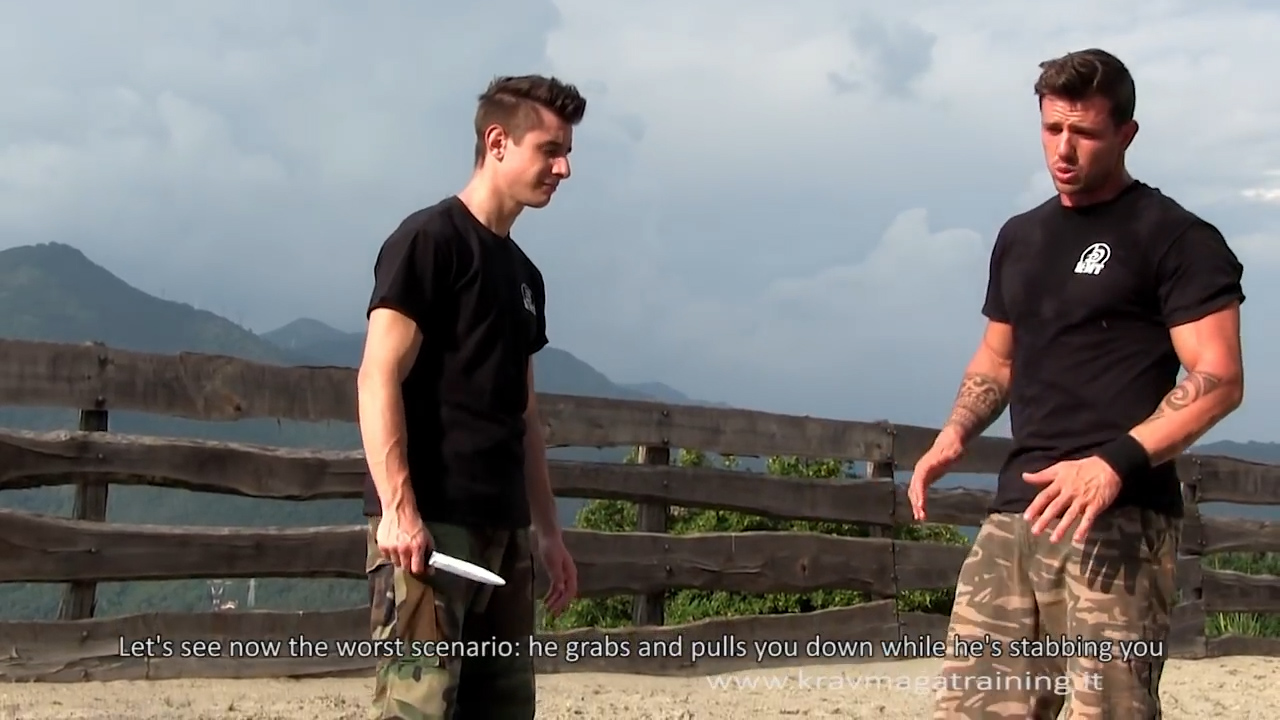knife: (370, 534, 514, 593)
